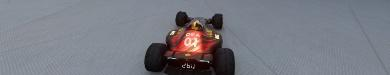Car: (143, 10, 235, 74)
grass: (0, 0, 389, 74)
